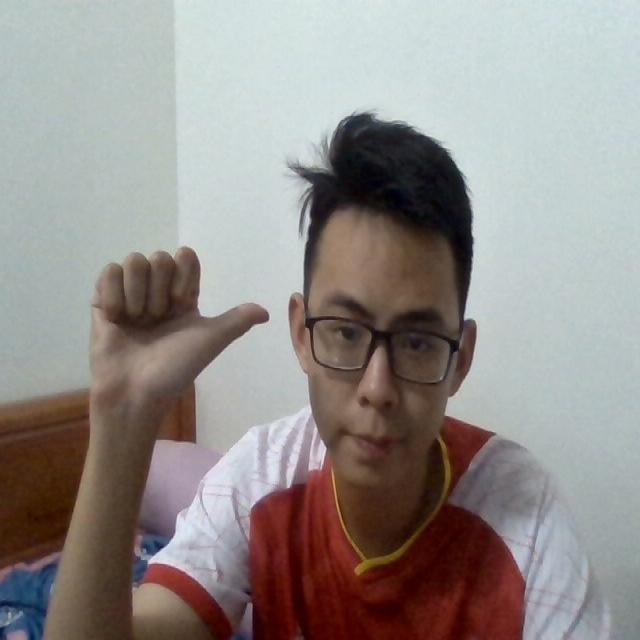A: (81, 236, 271, 403)
